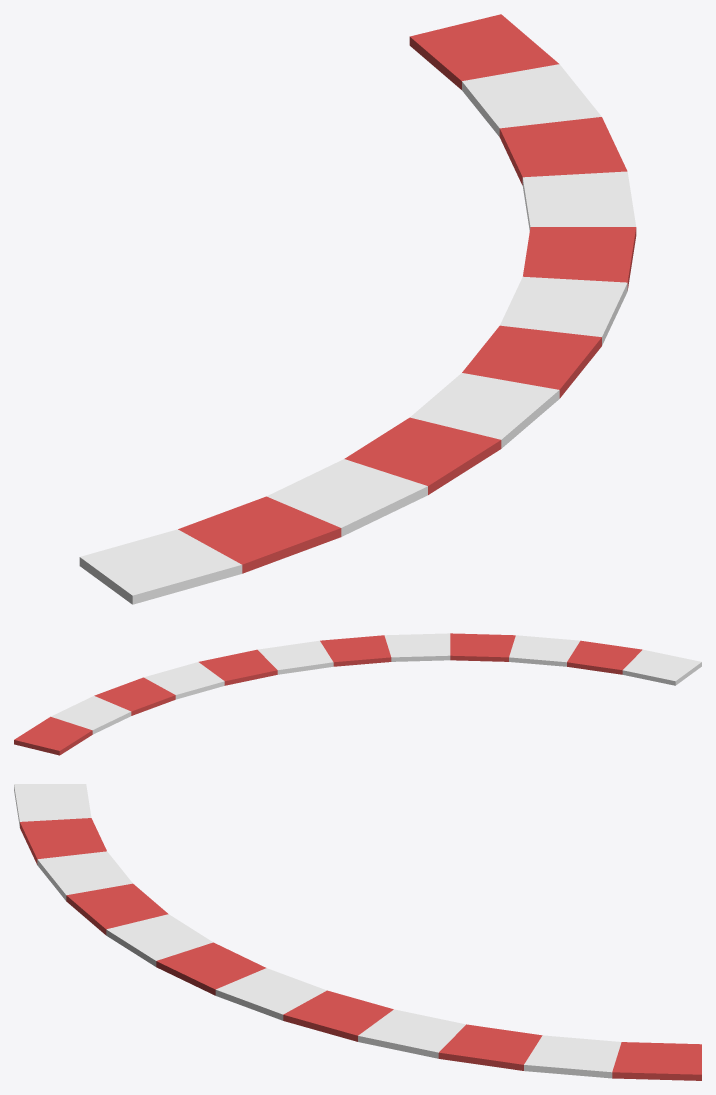
Rendered from roadCornerLargerBorderInner.obj.
The picture shows the model from 3 angles, top to bottom: view 1: azimuth 30°, elevation 25°; view 2: azimuth 150°, elevation 25°; view 3: azimuth 270°, elevation 25°; orthographic projection. The views are drawn at different scales.
Visible parts, largest first — view 1: roadCornerLargerBorderInner; view 2: roadCornerLargerBorderInner; view 3: roadCornerLargerBorderInner.
Boxes of the visible parts, bbox=[...] form: roadCornerLargerBorderInner: bbox=[79, 14, 636, 604]; roadCornerLargerBorderInner: bbox=[14, 633, 701, 755]; roadCornerLargerBorderInner: bbox=[14, 784, 701, 1080].
Bounding box in the file's own units: 2 × 0.02 × 2.
